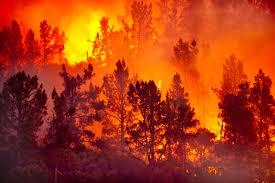fire: (113, 90, 180, 170), (190, 107, 243, 177)
